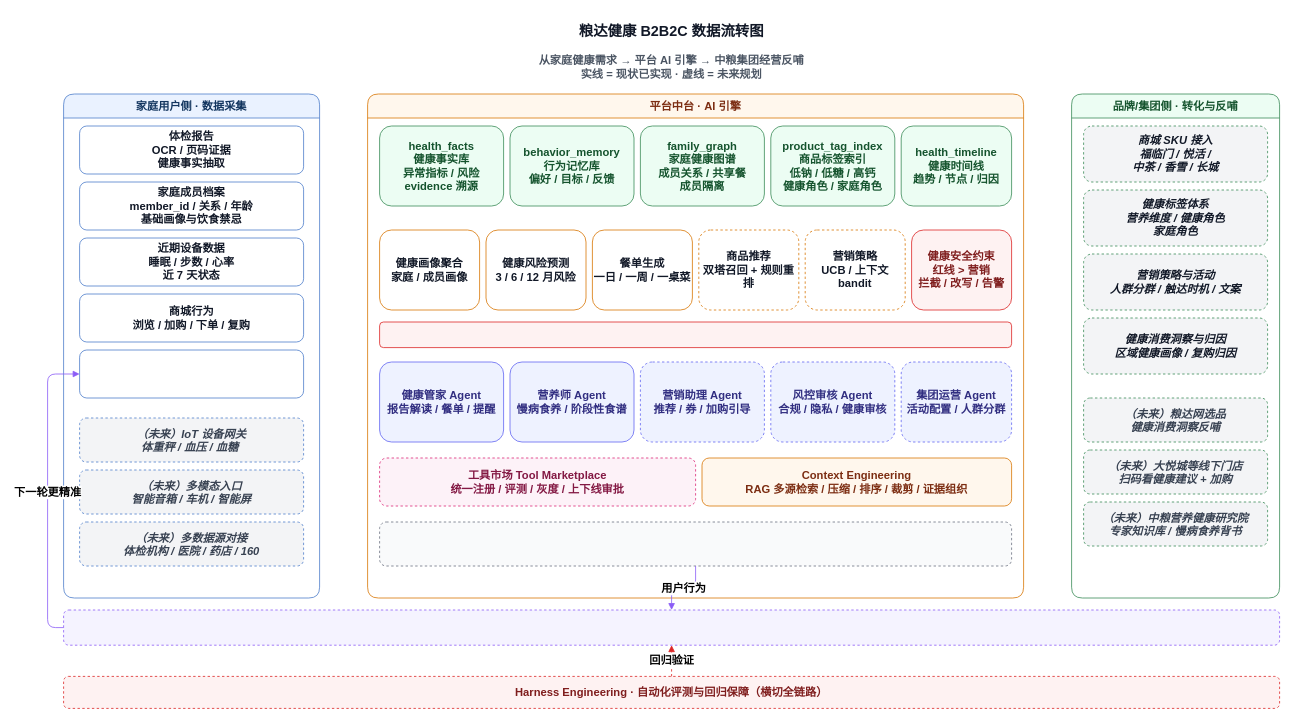
Some shapes in this 1294 by 722 pixel diagram are drawn without their labels. The centre of each missing label's shape, as x and y in pixels:
"Loop Engineering · 反馈闭环写回（用户越用越聪明，集团越卖越精准）" belongs at (x=671, y=627).
"⚠ 健康红线横切：禁忌 > 健康事实 > 偏好 > 营销转化（任何个性化都不能突破健康底线）" belongs at (x=695, y=334).
"对话日志 Agent 多轮 / 点赞 / 追问" belongs at (x=191, y=373).
"应用与触点层：主 App / 微信小程序 / 公众号 / 企业微信 / 智能音箱 / 车机 / 智能屏 / H5 嵌入集团 App / 线下门店屏" belongs at (x=695, y=543).
